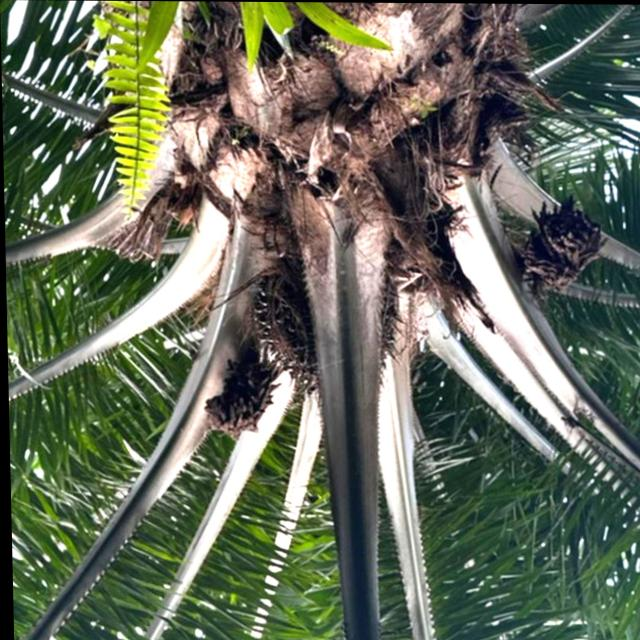almost: (244, 246, 399, 397)
